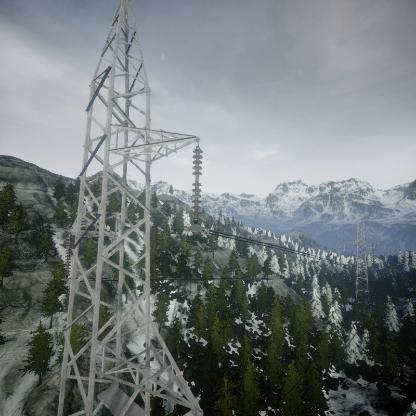insulator: (190, 145, 205, 225)
tower: (339, 209, 378, 300)
